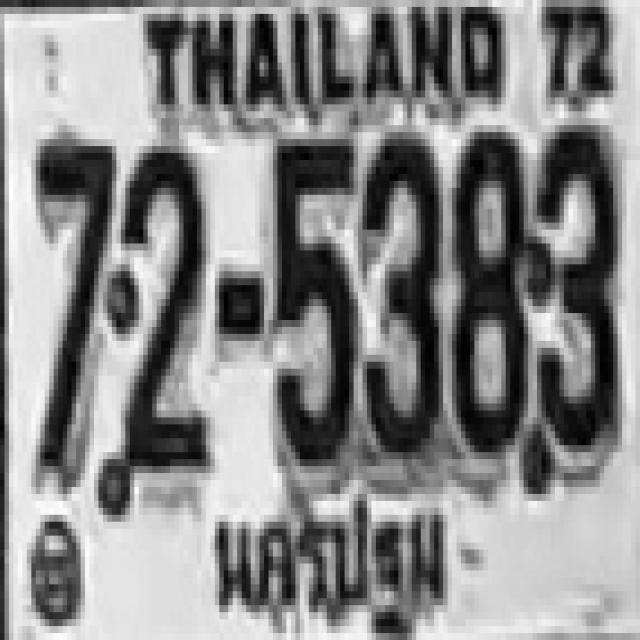2: (112, 142, 201, 448)
3: (526, 118, 615, 480), (358, 132, 439, 452)
5: (271, 132, 351, 459)
7: (34, 128, 114, 470)
8: (448, 128, 528, 456)
NakhonPathom: (198, 497, 455, 640)
